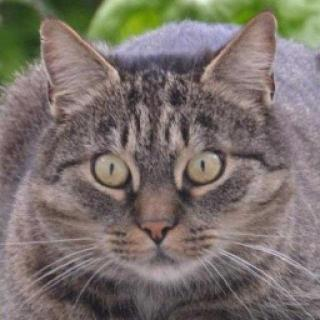cat: (31, 11, 283, 288)
nose: (132, 204, 183, 250)
